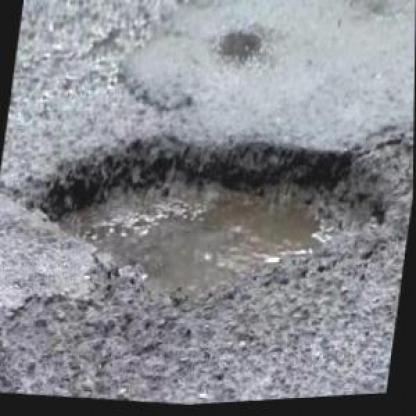pothole: (11, 102, 399, 338), (214, 18, 271, 75)
